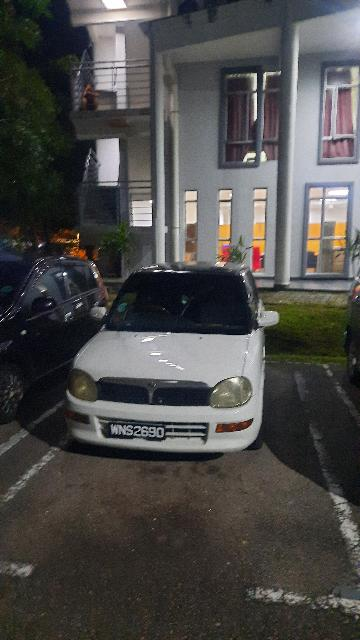License_Plate: (103, 417, 167, 444)
car: (66, 257, 282, 458)
